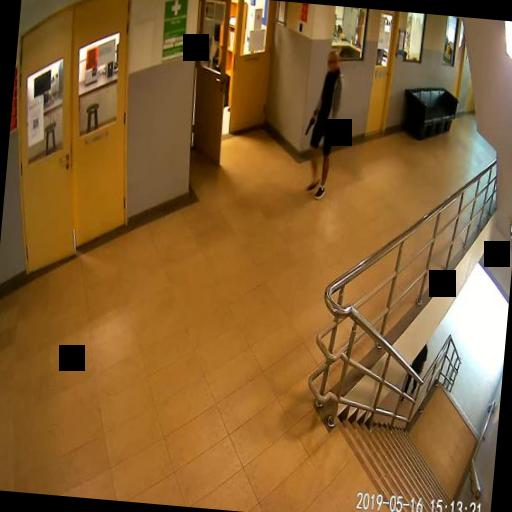Handgun: (304, 114, 314, 134)
